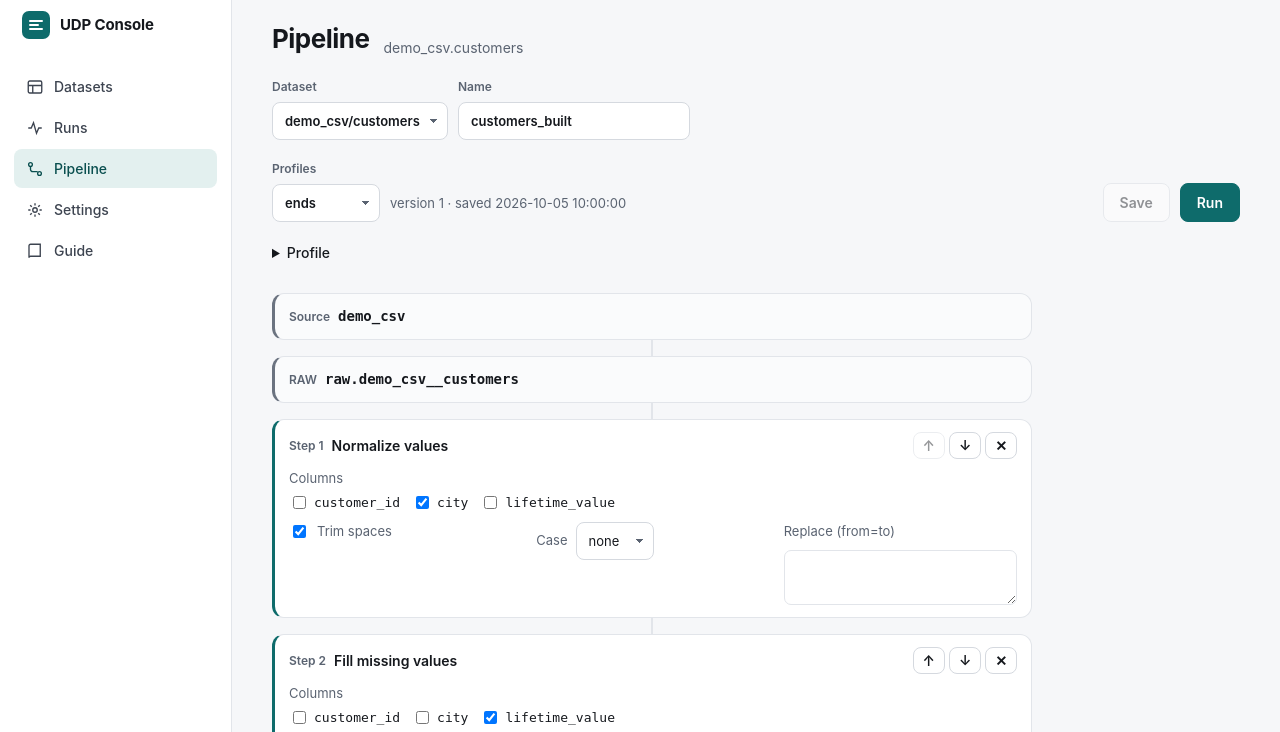
Test: the pipeline builder › saves the draft as a version and starts a run only when Run is pressed
The width and height of the screenshot is (1280, 732).
Step 1. Click the button named "Remove step 1" → (1001, 446), box top-left (985, 432), bottom-right (1017, 459)
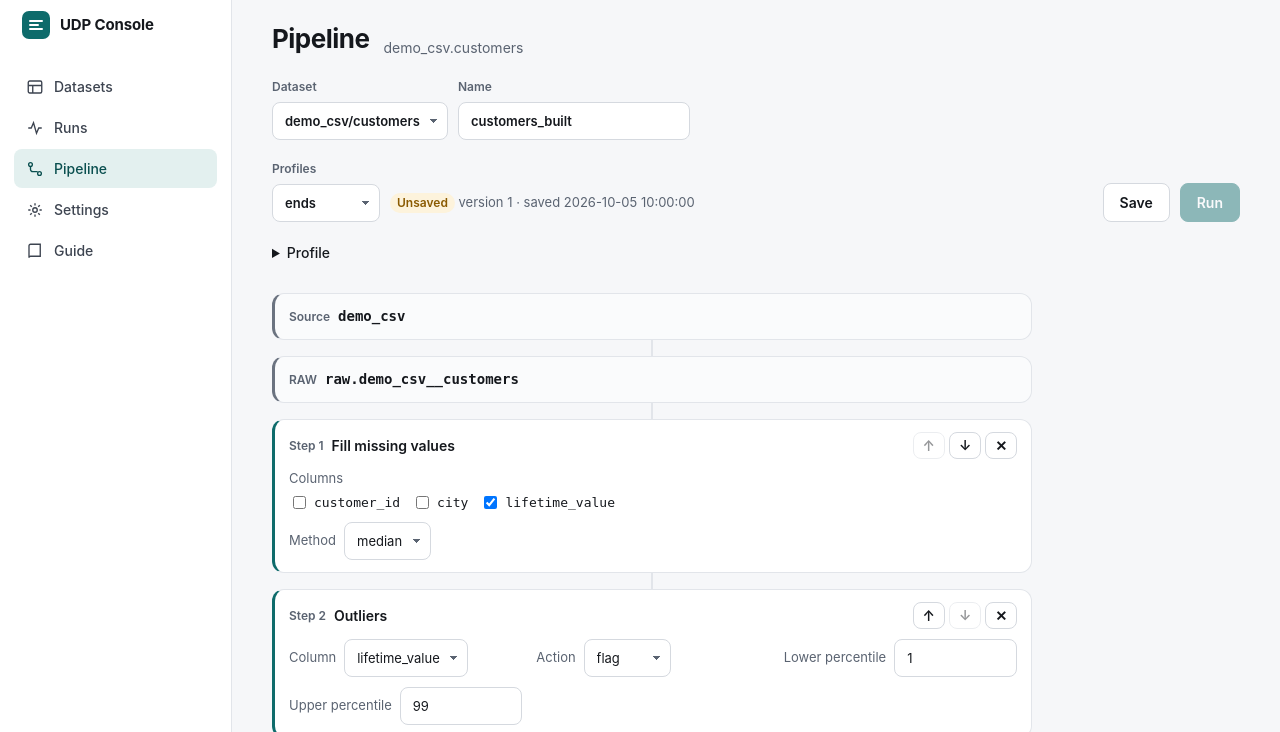
Step 2. Click the button "Save" → (1136, 202), box top-left (1103, 183), bottom-right (1170, 222)
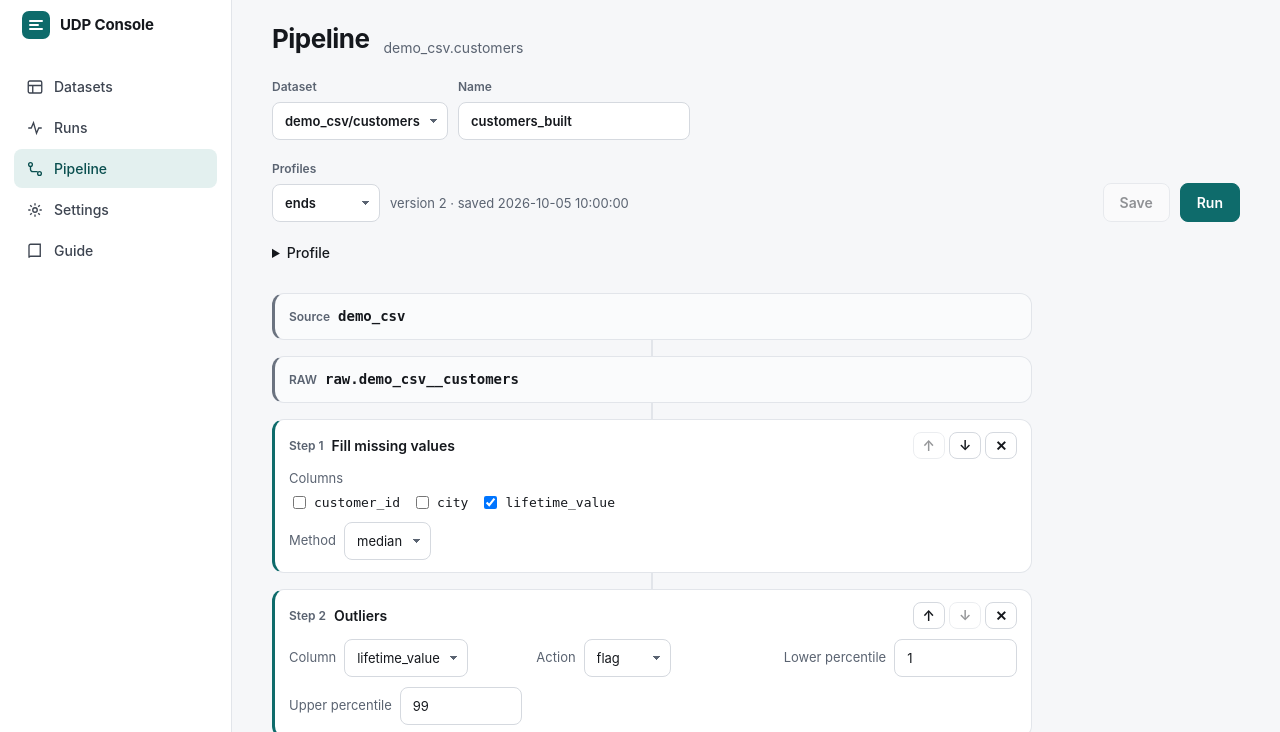
Result: the text "version 2 · saved 2026-10-05 10:00:00" is shown at top-left (390, 194), bottom-right (629, 210)
Result: the text "unsaved" is gone
Step 3. Click the button "Run" → (1210, 202), box top-left (1180, 183), bottom-right (1240, 222)
(page scrolled)
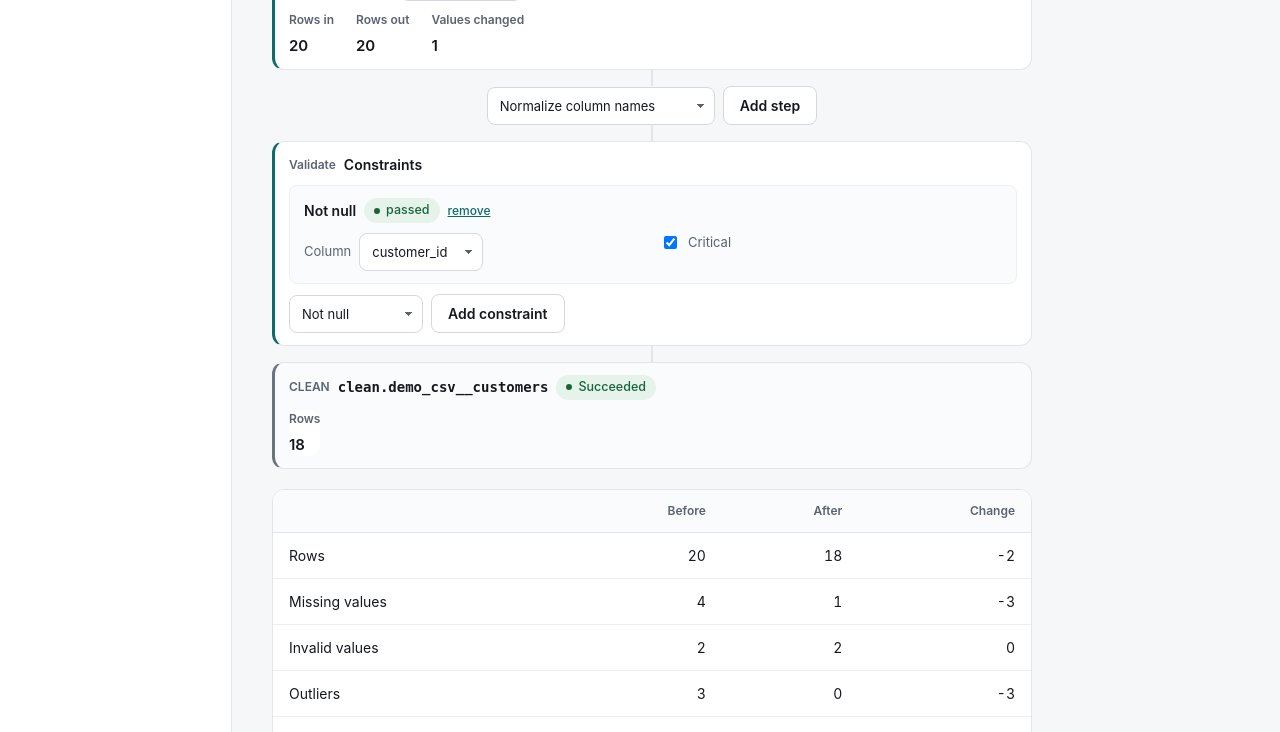
Result: the text "Succeeded" is shown at top-left (556, 375), bottom-right (656, 400)
